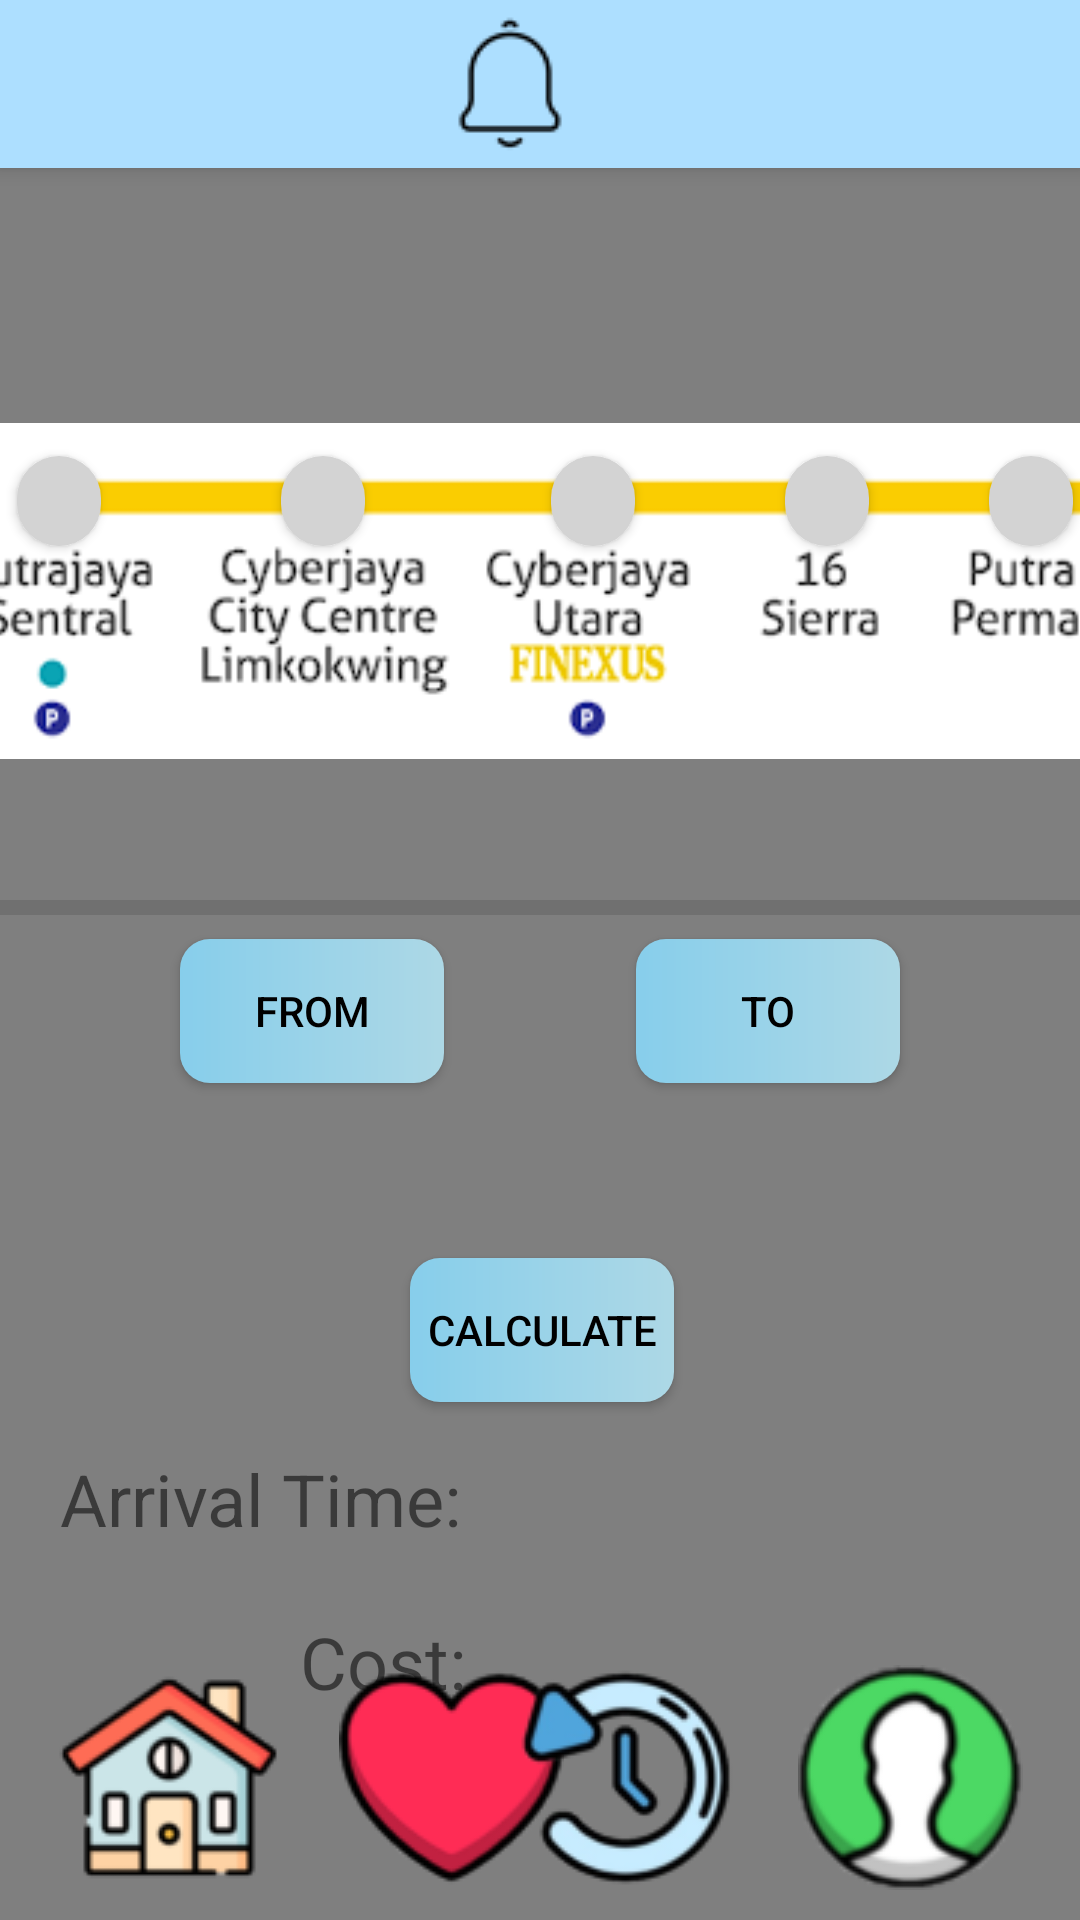

Locate icon controls on the screen. Image size 1080 x 1920, boxes as (x1, y1, x2, y2).
heart: (339, 1665, 564, 1882)
history: (516, 1673, 730, 1882)
home: (62, 1679, 277, 1876)
notification: (458, 18, 562, 148)
profile: (798, 1667, 1021, 1888)
